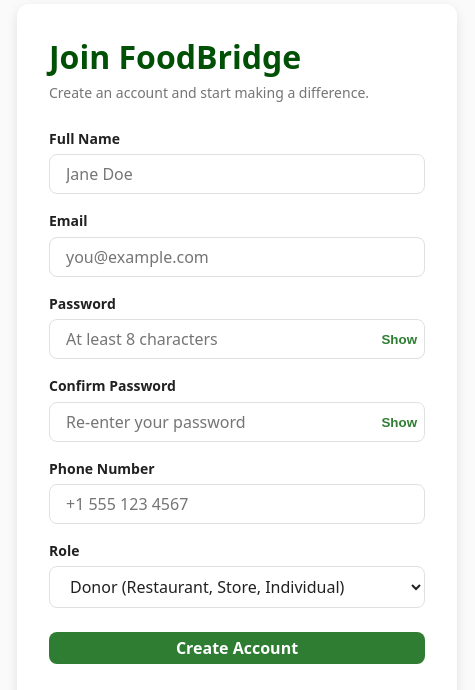
Test: registration validation › shows NGO fields when the NGO role is selected
The width and height of the screenshot is (475, 690).
Select "NGO / Charity" in the dropdown labelled "Role" at (237, 587), box 49,566 -> 425,608
(page scrolled)
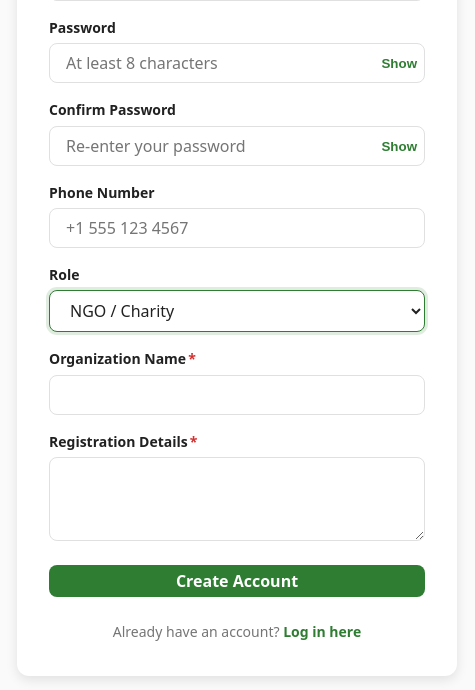
Expected: the field labelled "Organization Name*" is shown, 49,375 -> 425,415
Expected: the text box labelled "Registration Details*" is shown, 49,457 -> 425,541
